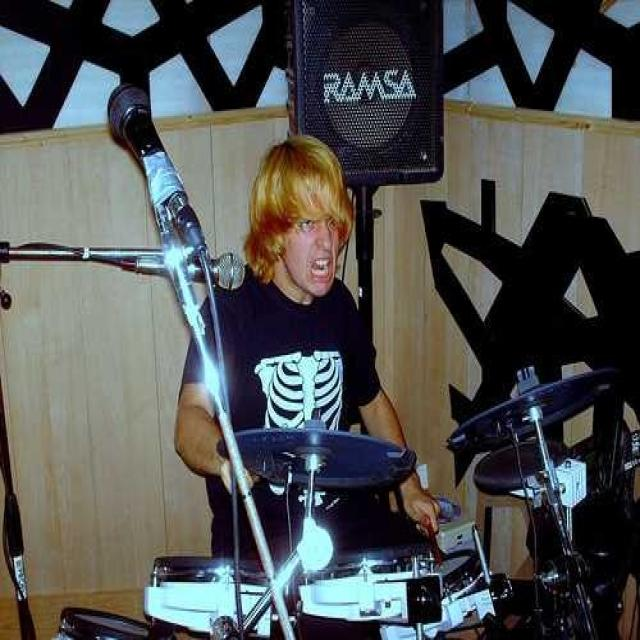microphone: (107, 82, 217, 267), (7, 240, 238, 288)
